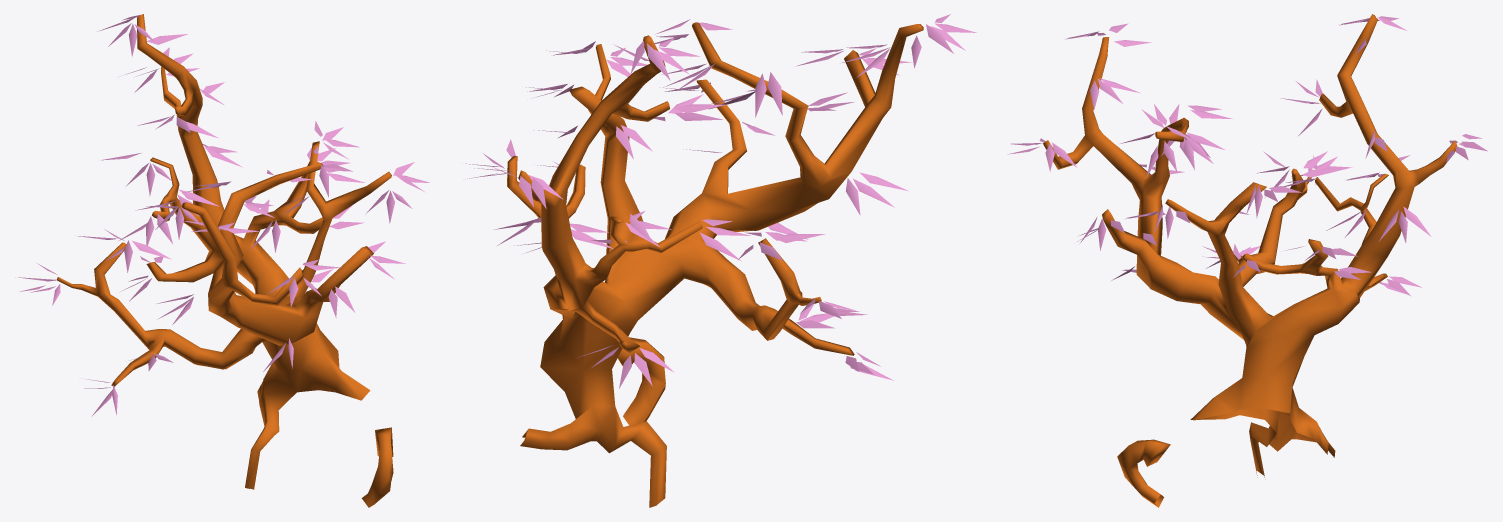
Rendered from baum03.FBX.
The picture shows the model from 3 angles, left to right: view 1: azimuth 30°, elevation 25°; view 2: azimuth 150°, elevation 25°; view 3: azimuth 270°, elevation 25°; orthographic projection. The views are drawn at different scales.
Visible parts, largest first — view 1: baum03; view 2: baum03; view 3: baum03.
Part boxes in pixels (x1,y1,x2,y2): baum03: (15, 14, 429, 507); baum03: (462, 14, 976, 507); baum03: (1007, 14, 1487, 507).
Size of the model in its own units: 40.23 by 50.69 by 50.17.
